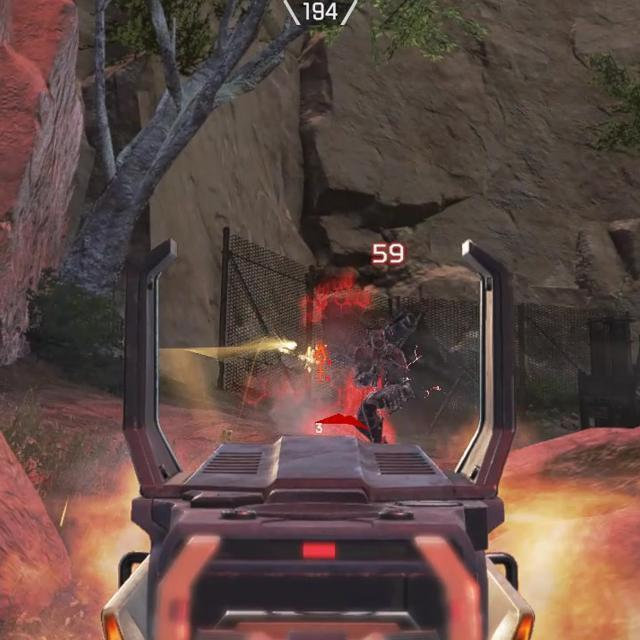avatar: (348, 323, 412, 445)
